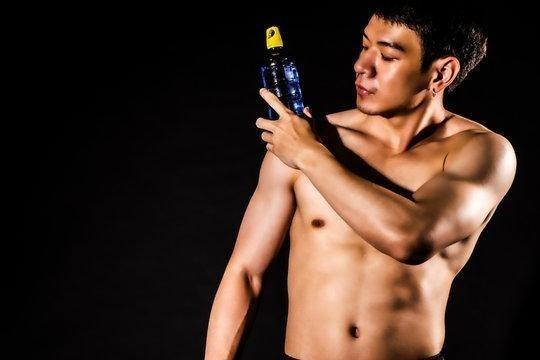gym bottle: (257, 24, 309, 145)
